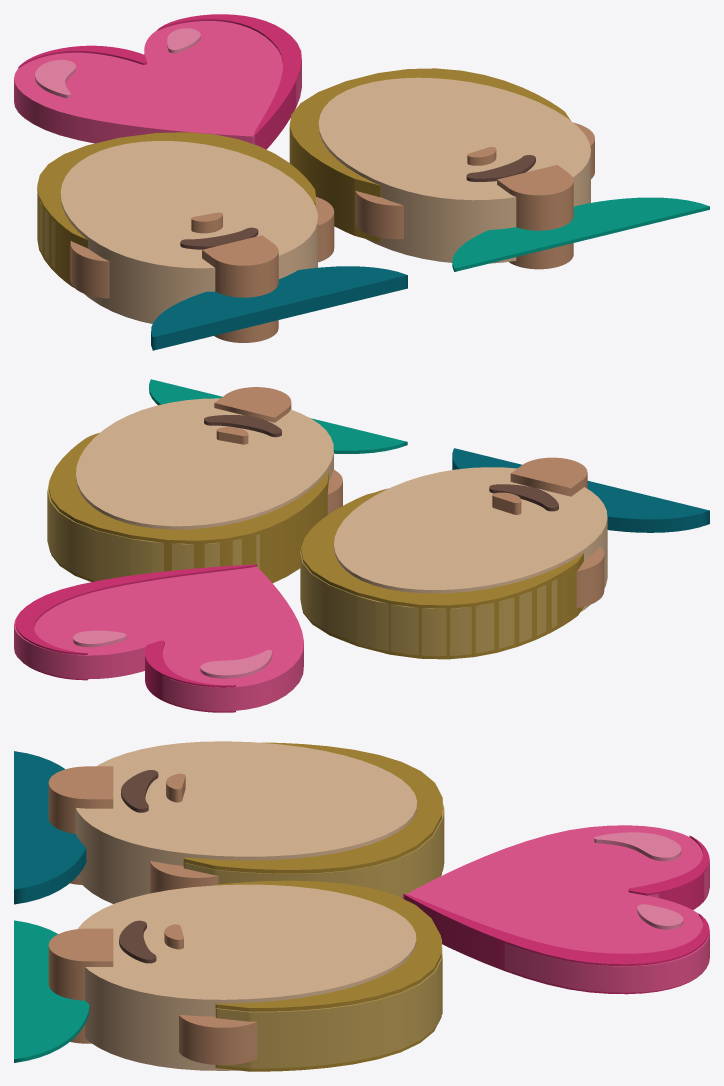
The model's file is emoji_u1f468_1f3fc_200d_2764_200d_1f468_1f3fc.glb.
3 renders of one model, top to bottom at view 1: azimuth 30°, elevation 25°; view 2: azimuth 150°, elevation 25°; view 3: azimuth 270°, elevation 25°, orthographic. The views are drawn at different scales.
Visible parts, largest first — view 1: emoji_u1f468_1f3fc_200d_2764_200d_1f468_1f3fc; view 2: emoji_u1f468_1f3fc_200d_2764_200d_1f468_1f3fc; view 3: emoji_u1f468_1f3fc_200d_2764_200d_1f468_1f3fc.
Part boxes in pixels (bbox=[...]): emoji_u1f468_1f3fc_200d_2764_200d_1f468_1f3fc: bbox=[14, 14, 709, 350]; emoji_u1f468_1f3fc_200d_2764_200d_1f468_1f3fc: bbox=[14, 379, 709, 712]; emoji_u1f468_1f3fc_200d_2764_200d_1f468_1f3fc: bbox=[14, 741, 709, 1071].
Size of the model in its own units: 0.0347 by 0.005 by 0.0337.
